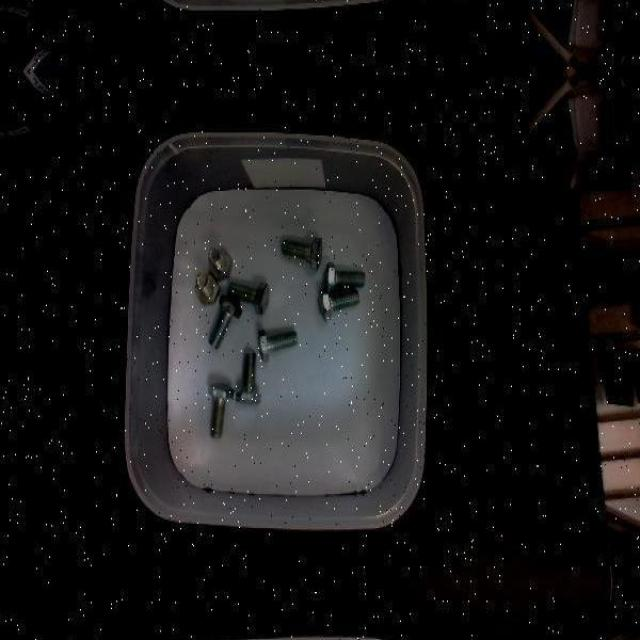screw: (209, 294, 243, 350), (209, 383, 235, 437), (325, 262, 366, 296), (235, 352, 261, 405), (227, 282, 270, 314), (282, 237, 323, 269), (258, 329, 298, 361), (318, 288, 359, 319), (208, 248, 234, 278), (194, 273, 219, 303)
